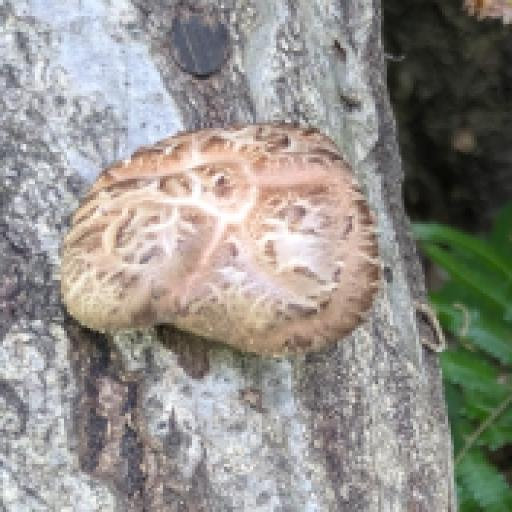Shiitake Mushroom: (62, 92, 401, 365)
